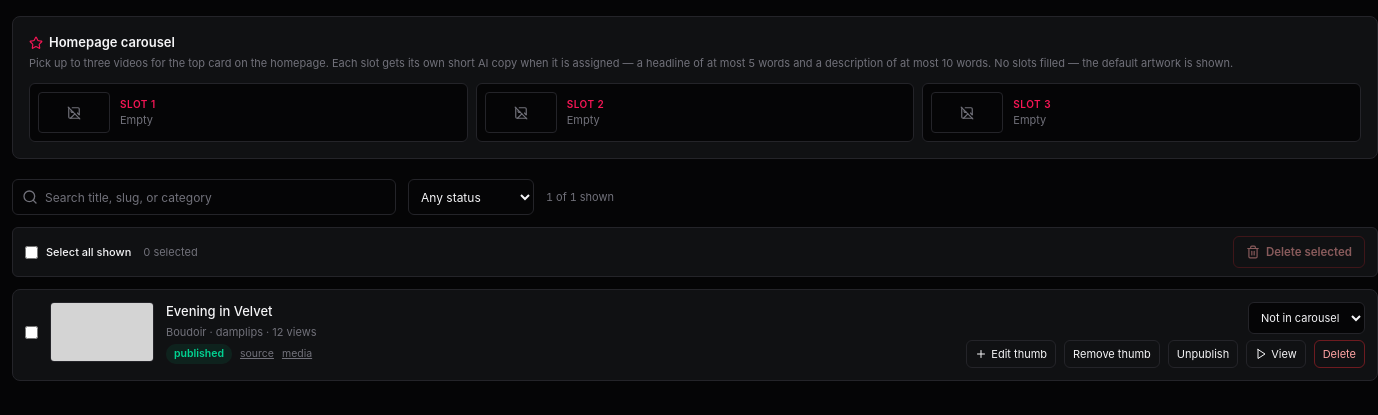
Test: VideoManager › unpublishes a published video through PATCH
The width and height of the screenshot is (1378, 415).
Step 1. Click the button "Unpublish" → (1203, 354), box left=1168, top=340, right=1238, bottom=368
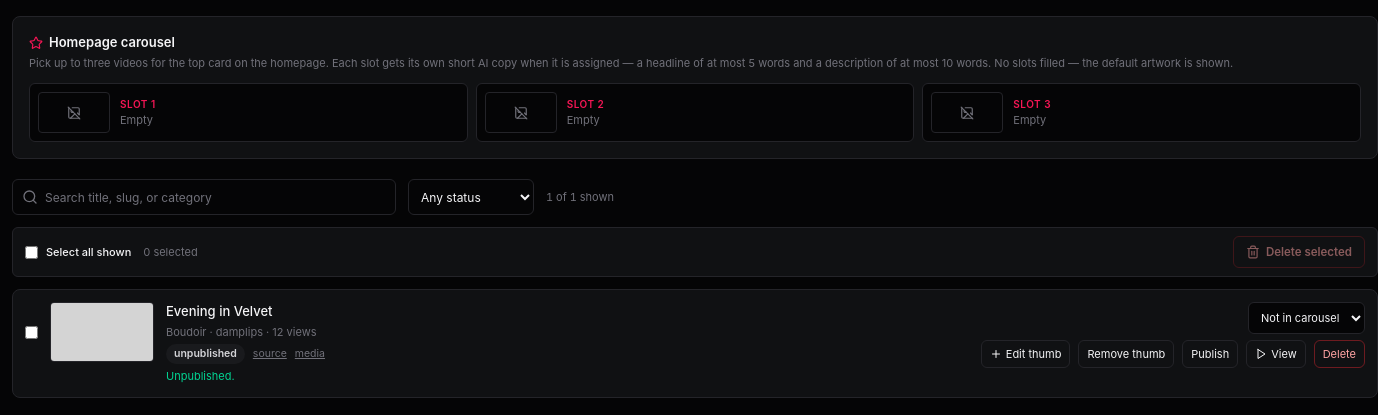
Expected: the text "unpublished" is shown, left=166, top=344, right=245, bottom=364
